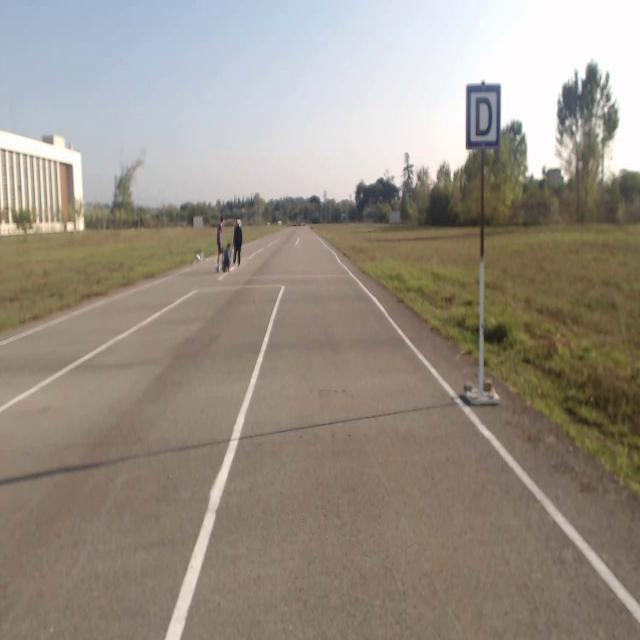durak: (467, 84, 501, 145)
